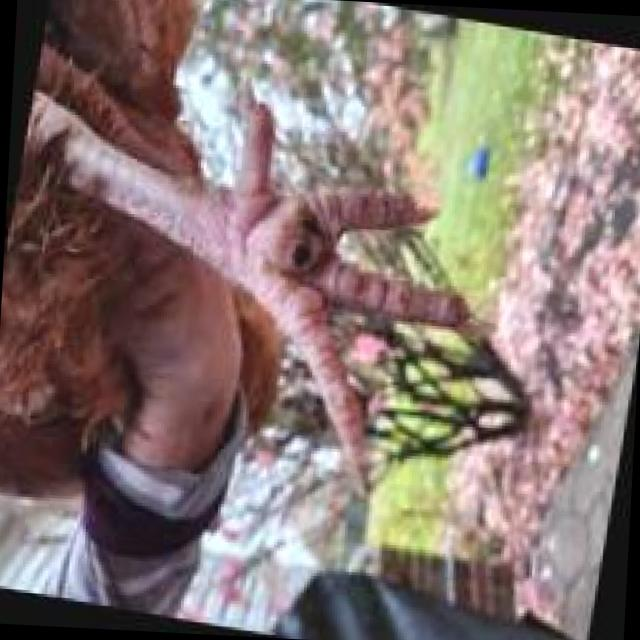Bumble foot: (221, 179, 370, 342)
